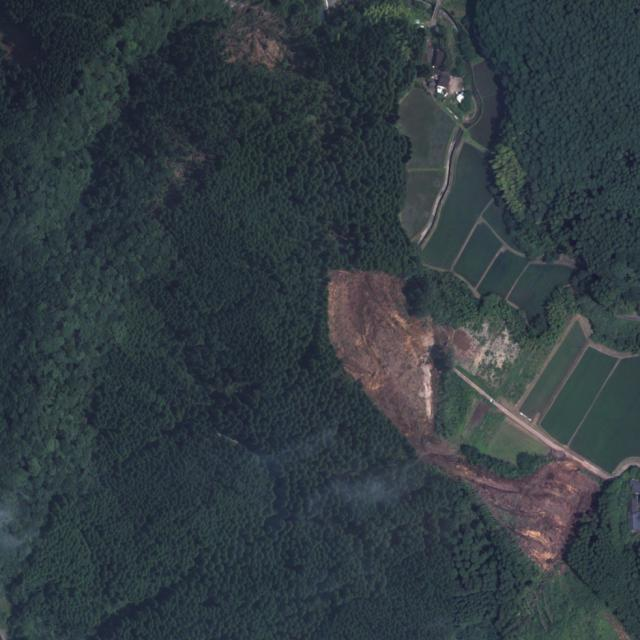landslide: (329, 272, 601, 572)
